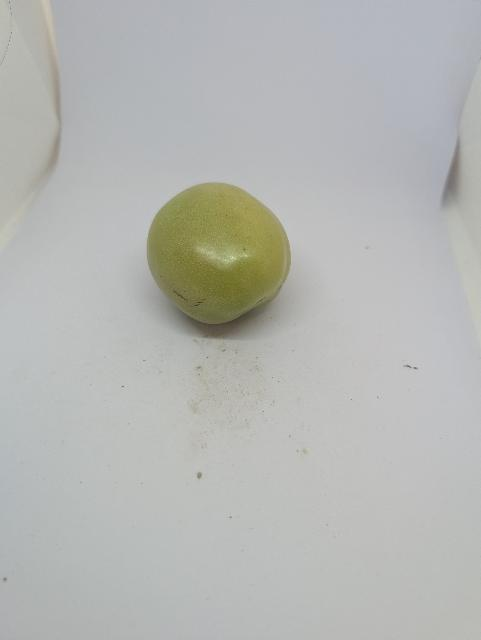green: (145, 180, 293, 323)
